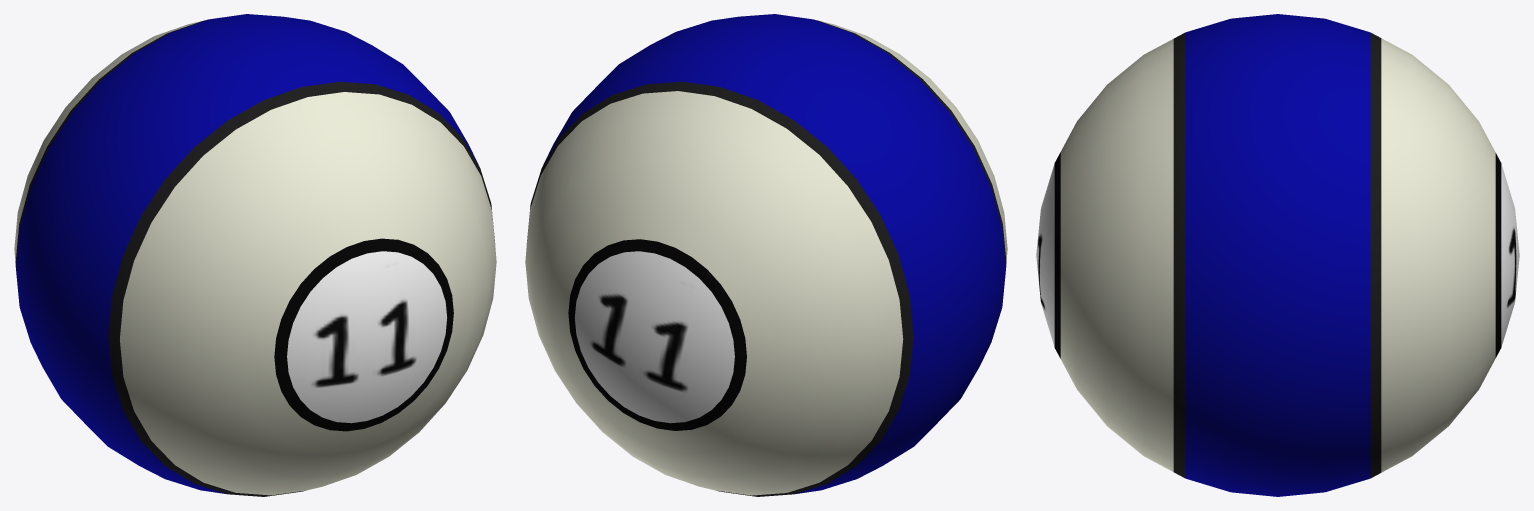
Rendered from Ball.fbx.
3 views of the same model, side by side, from view 1: azimuth 30°, elevation 25°; view 2: azimuth 150°, elevation 25°; view 3: azimuth 270°, elevation 25° (orthographic).
Parts seen in each view (by area): view 1: Sphere; view 2: Sphere; view 3: Sphere.
Boxes of the visible parts, left/top/right/bottom form: Sphere: left=14, top=14, right=496, bottom=496; Sphere: left=525, top=14, right=1007, bottom=496; Sphere: left=1036, top=14, right=1519, bottom=496.
Bounding box in the file's own units: 200 × 200 × 200.
